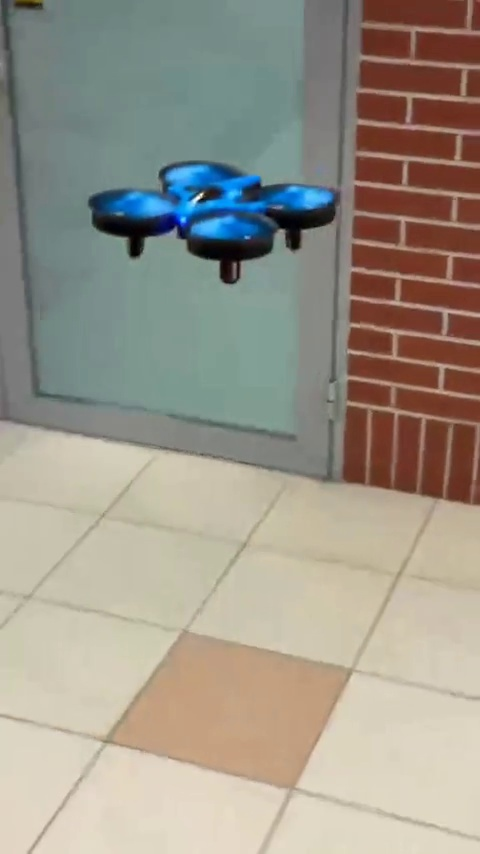drone: (92, 163, 340, 279)
